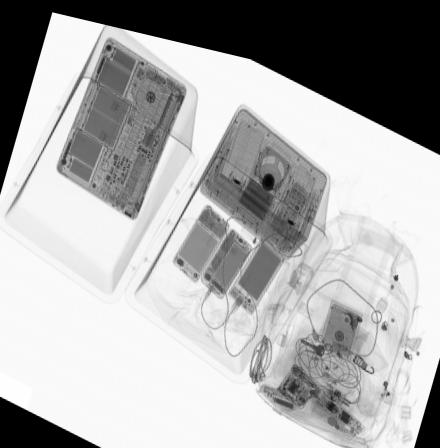Powerbank: (226, 221, 287, 305)
